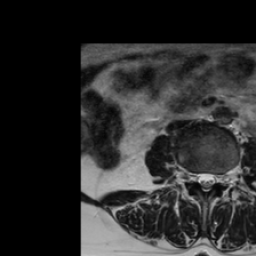CCS_normal: (203, 163, 209, 203)
LFS_normal: (217, 163, 228, 192)
LLS_normal: (209, 163, 217, 192)
RFS_normal: (187, 162, 195, 189)
RLS_normal: (195, 163, 203, 192)
